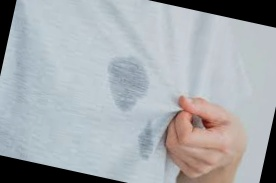oil: (108, 55, 153, 110), (128, 120, 167, 161)
